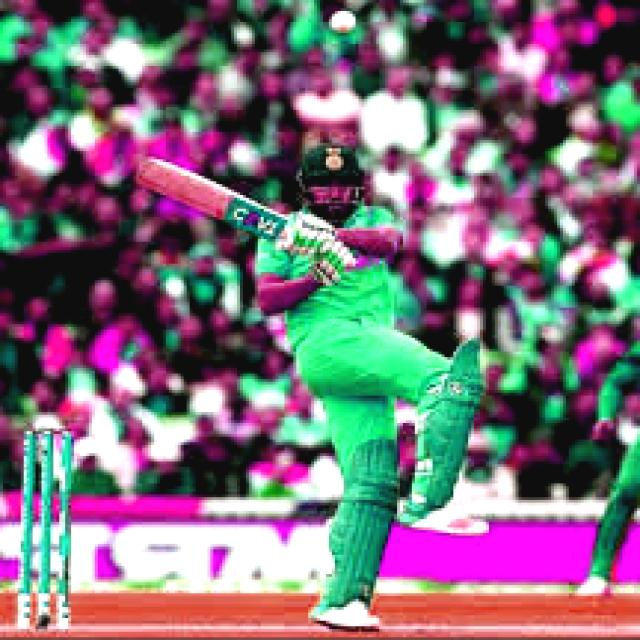toe: (130, 152, 175, 190)
